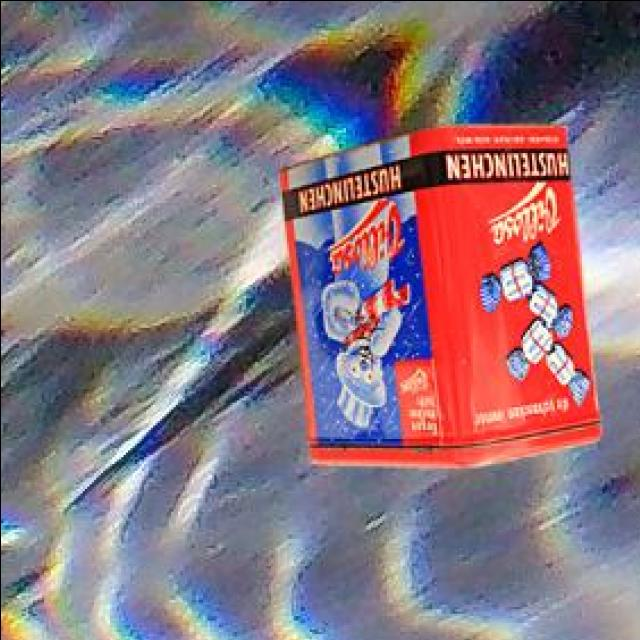logam: (280, 126, 605, 471)
